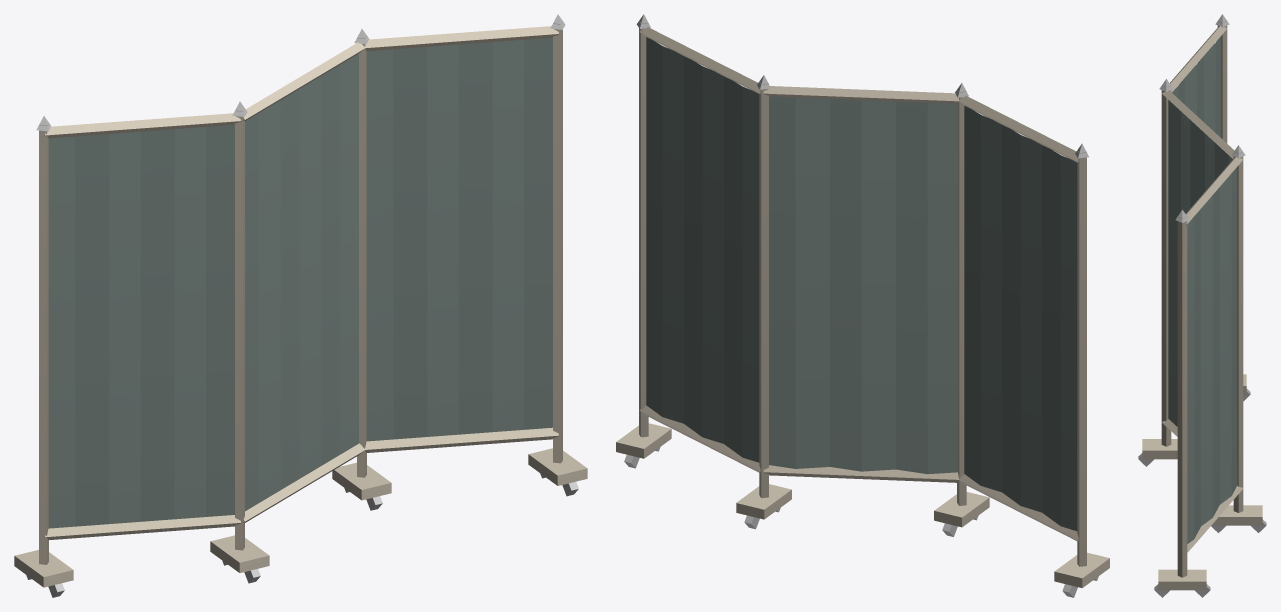
Rendered from screen.glb.
3 views of the same model, side by side, from view 1: azimuth 30°, elevation 25°; view 2: azimuth 150°, elevation 25°; view 3: azimuth 270°, elevation 25° (orthographic). The views are drawn at different scales.
Parts seen in each view (by area): view 1: gate1_mesh, gate0_mesh, root_mesh; view 2: root_mesh, gate1_mesh, gate0_mesh; view 3: gate1_mesh, root_mesh, gate0_mesh.
Part boxes in pixels (box(x1,y1,x2,y2)): gate1_mesh: box(332, 14, 587, 510); gate0_mesh: box(14, 113, 240, 597); root_mesh: box(210, 42, 365, 583); root_mesh: box(763, 83, 989, 536); gate1_mesh: box(616, 14, 791, 529); gate0_mesh: box(959, 96, 1109, 597); gate1_mesh: box(1154, 145, 1266, 597); root_mesh: box(1138, 79, 1234, 466); gate0_mesh: box(1170, 14, 1250, 401).
Size of the model in its own units: 2.3 by 2 by 0.6.
